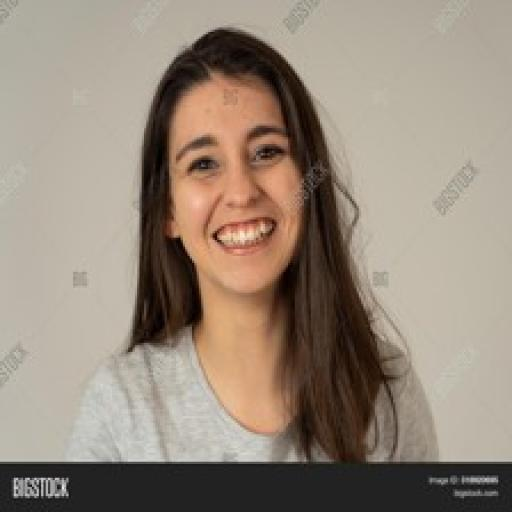human: (59, 16, 444, 463)
